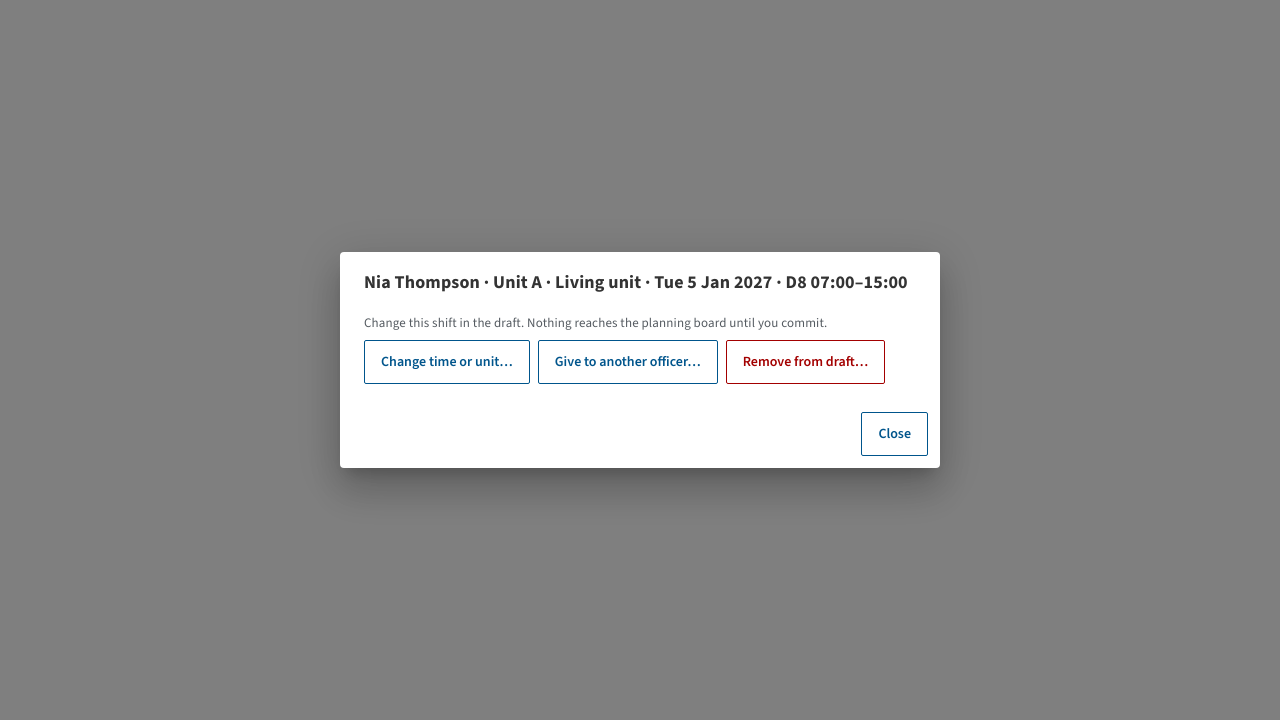
it: the draft shift dialog › uses the draft-changed words on a 412 and offers Reload
Later steps or results of the test are not shown.
Click the button "Change time or unit…".
click(447, 362)  # box 364,340 -> 530,384
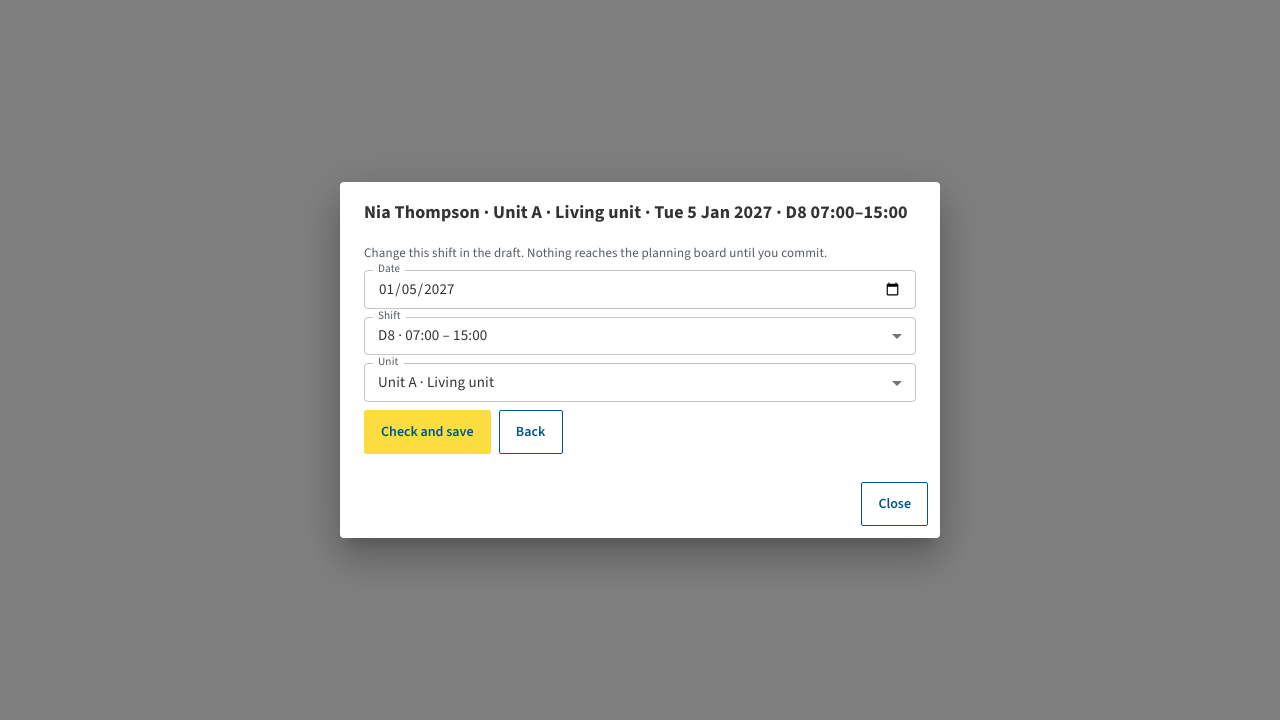
Click the button "Check and save".
click(427, 432)  # box 364,410 -> 490,454
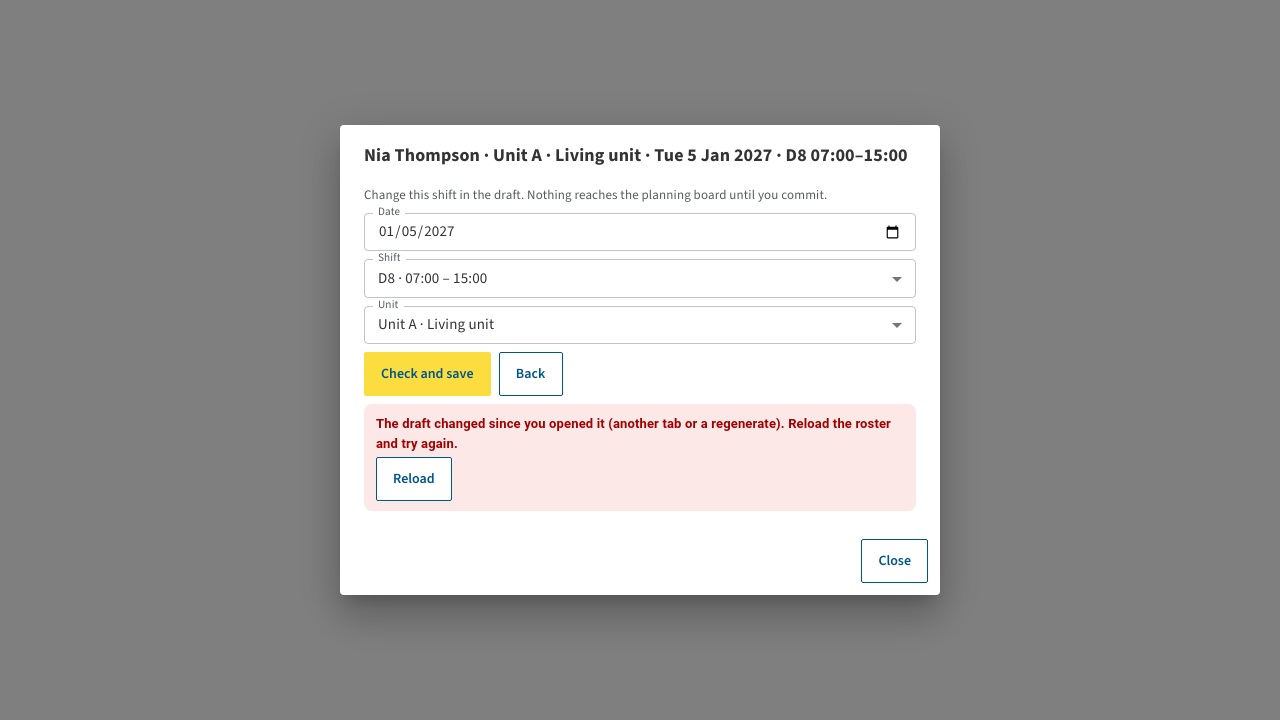
Result: the text "The draft changed since you opened it (another tab or a regenerate). Reload the roster and try again." is shown at 376,416 -> 891,451
